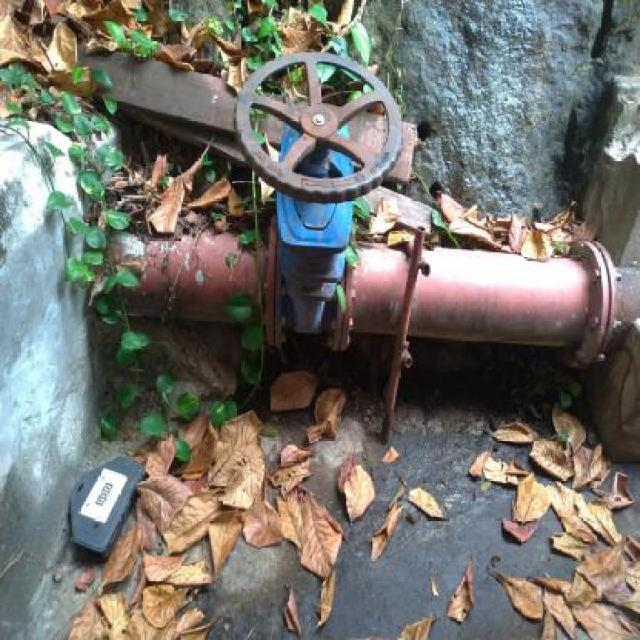gas: (103, 220, 622, 350)
